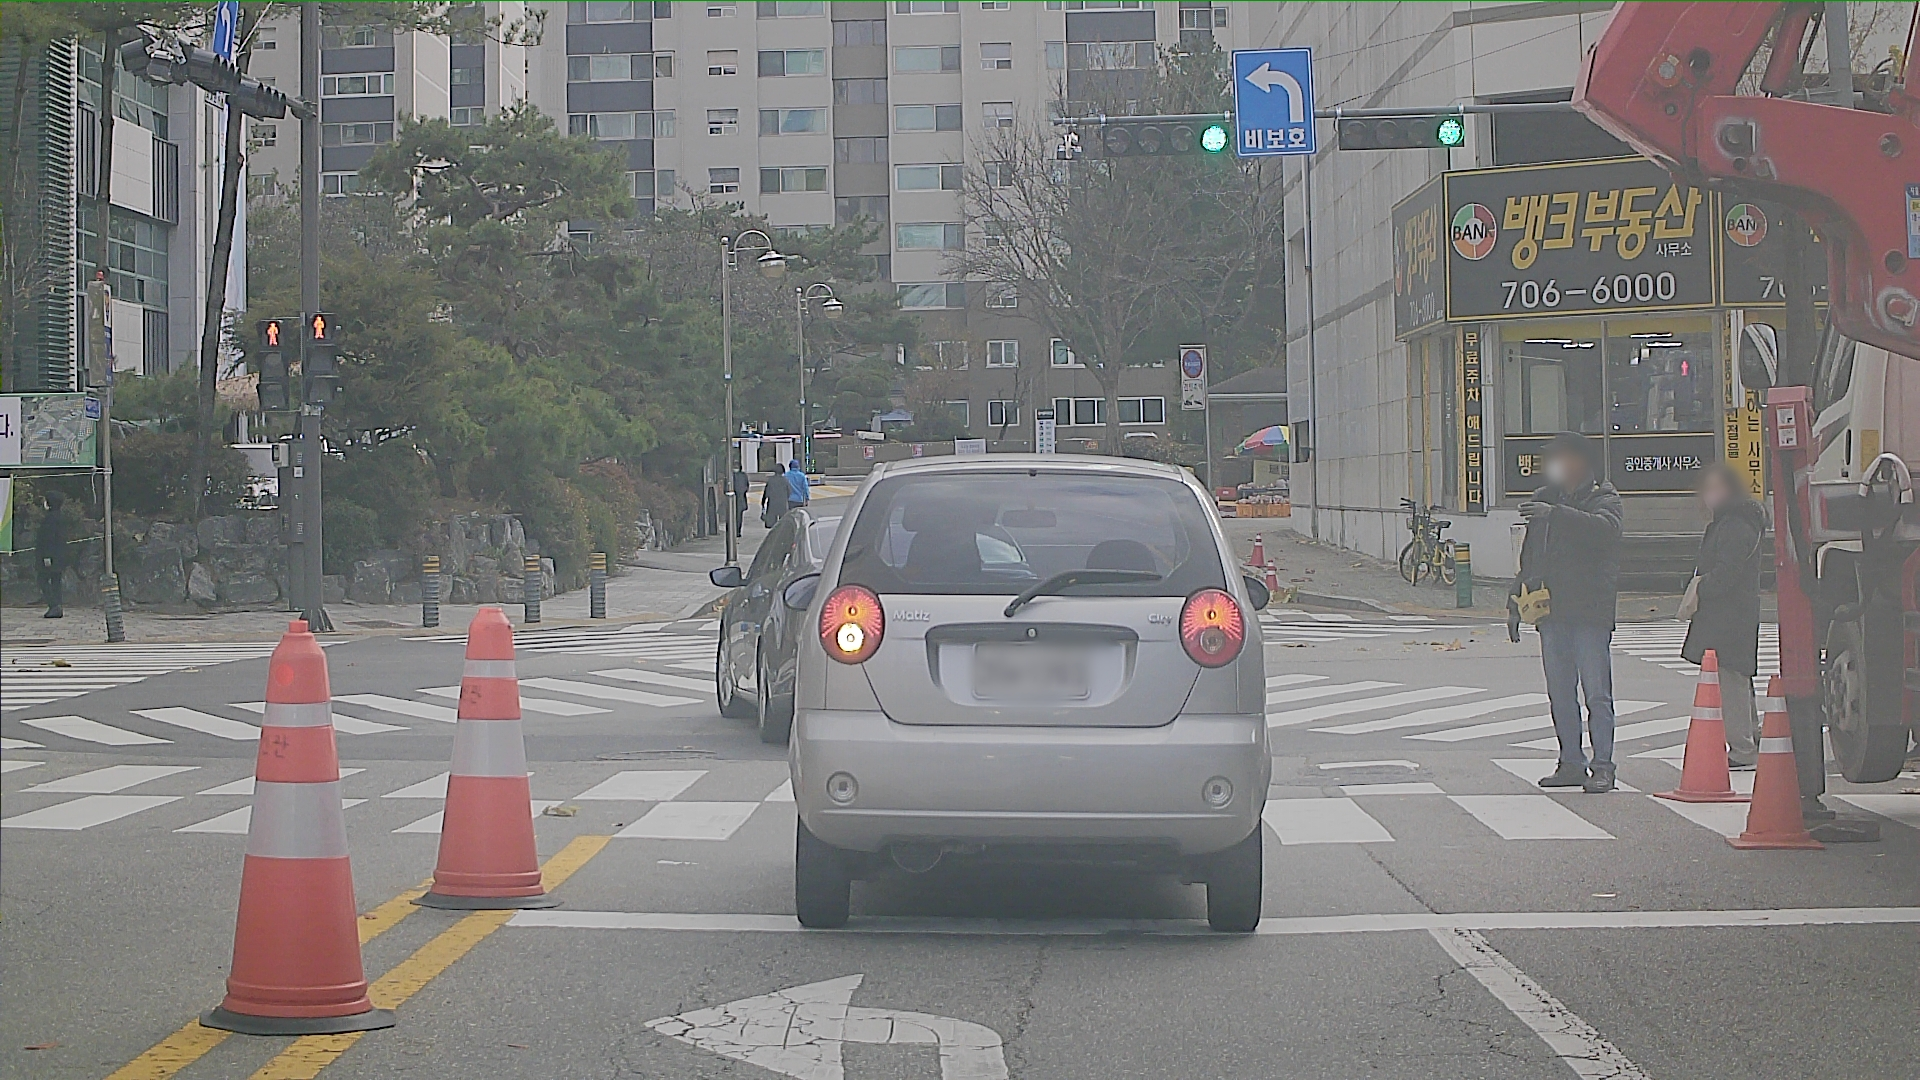trafficLight: (1335, 109, 1469, 152), (1100, 115, 1226, 156), (183, 53, 243, 100), (251, 83, 287, 119)
trafficSignRTG: (1234, 47, 1313, 157)
